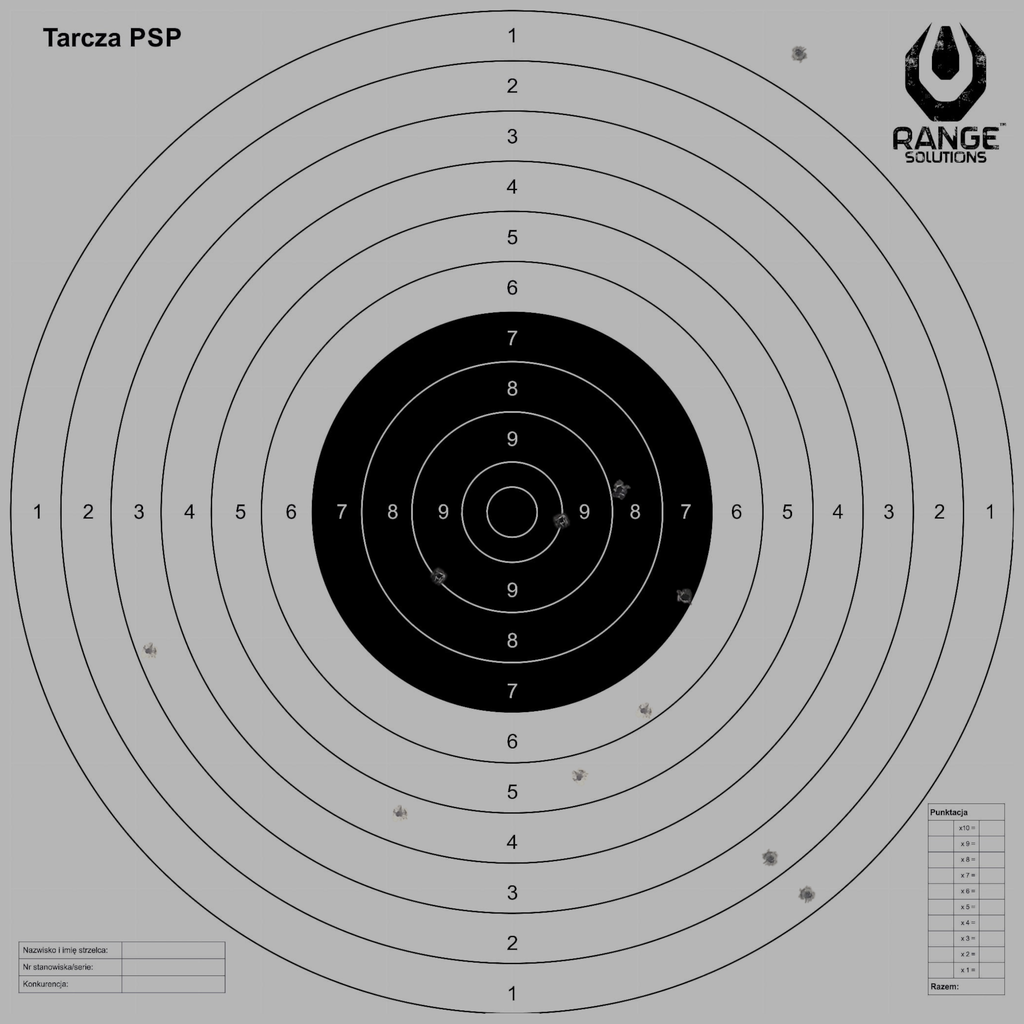0 punktow: (790, 44, 808, 62)
1 punkt: (798, 886, 817, 904)
10 punktow: (552, 511, 571, 529)
2 punkty: (761, 850, 780, 868)
3 punkty: (140, 642, 158, 660)
4 punkty: (390, 804, 408, 823)
5 punktow: (570, 768, 588, 786)
6 punktow: (635, 701, 653, 720)
7 punktow: (676, 588, 694, 606)
8 punktow: (610, 481, 629, 499)
9 punktow: (430, 567, 449, 585)
